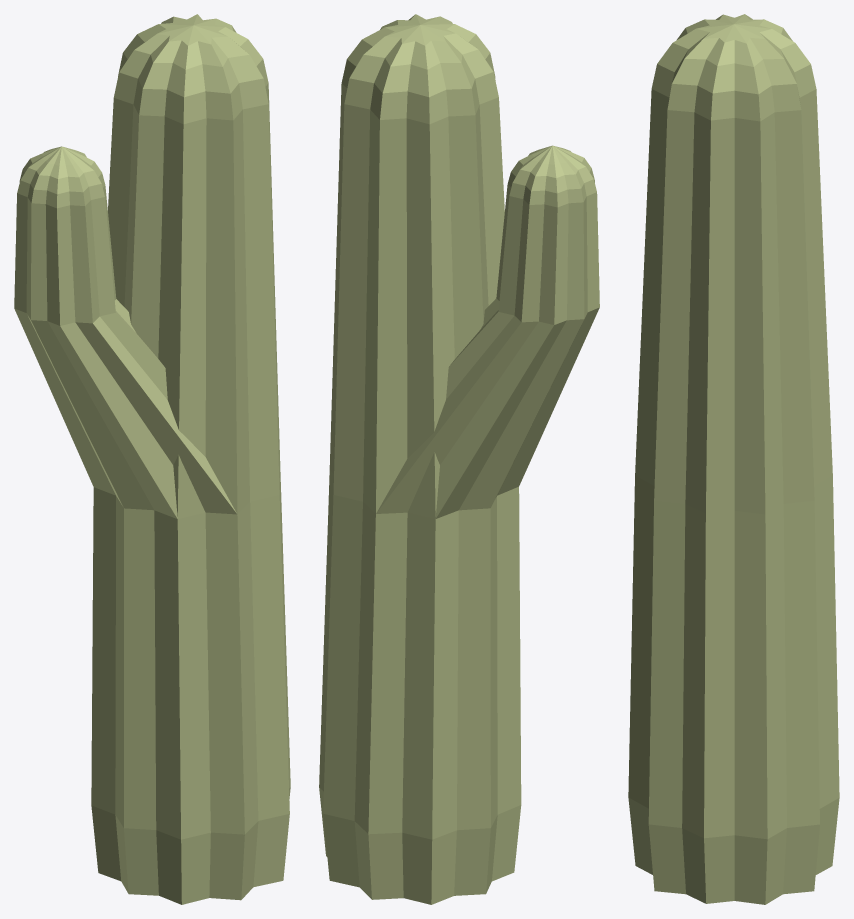
File: FBX Cactus 1.fbx
3 views of the same model, side by side, from view 1: azimuth 30°, elevation 25°; view 2: azimuth 150°, elevation 25°; view 3: azimuth 270°, elevation 25° (orthographic).
Parts seen in each view (by area): view 1: Sphere; view 2: Sphere; view 3: Sphere.
Part boxes in pixels (x1,y1,x2,y2): Sphere: (14,14,290,904); Sphere: (319,14,599,904); Sphere: (628,14,839,904).
Bounding box in the file's own units: 91.57 × 287 × 65.14.
